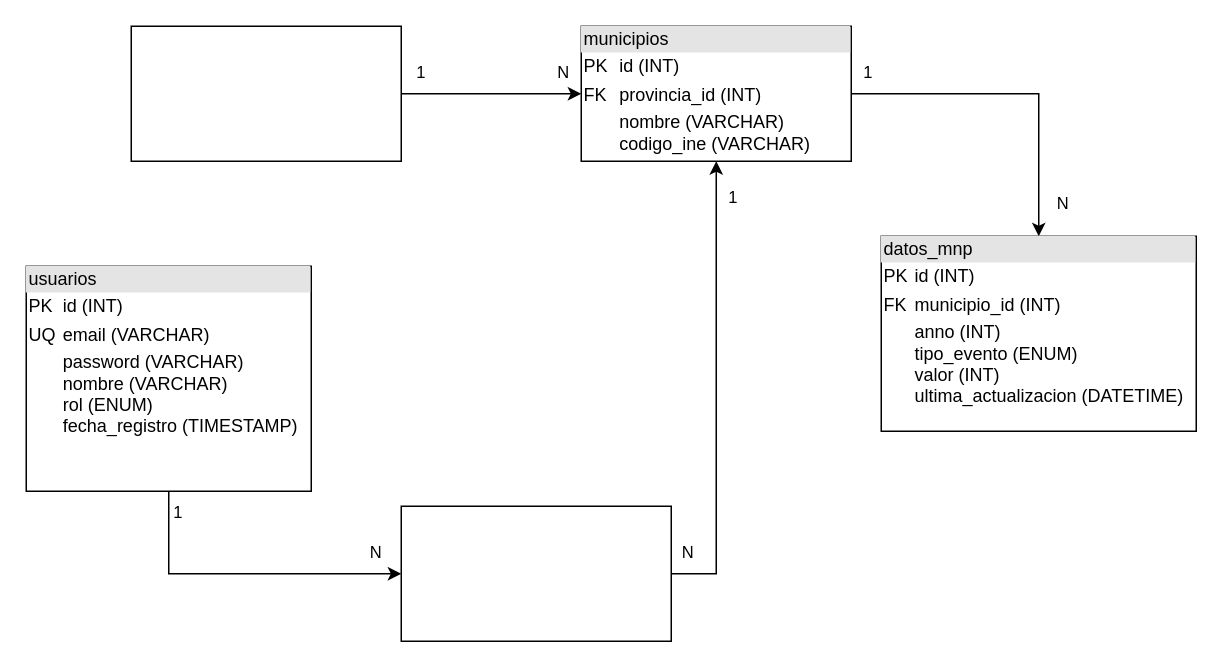
This 1223x668 diagram has some shape labels left out. The shapes that lost their labels are listed below. From the top down, each one's box as (x1, y1, x2, y2) in pixels, then its label:
(130, 25, 401, 161): provincias PK id (INT) codigo_ine (CHAR) nombre (VARCHAR)
(400, 505, 671, 641): favoritos PK id (INT) FK1 FK2 usuario_id (INT) municipio_id (INT)
